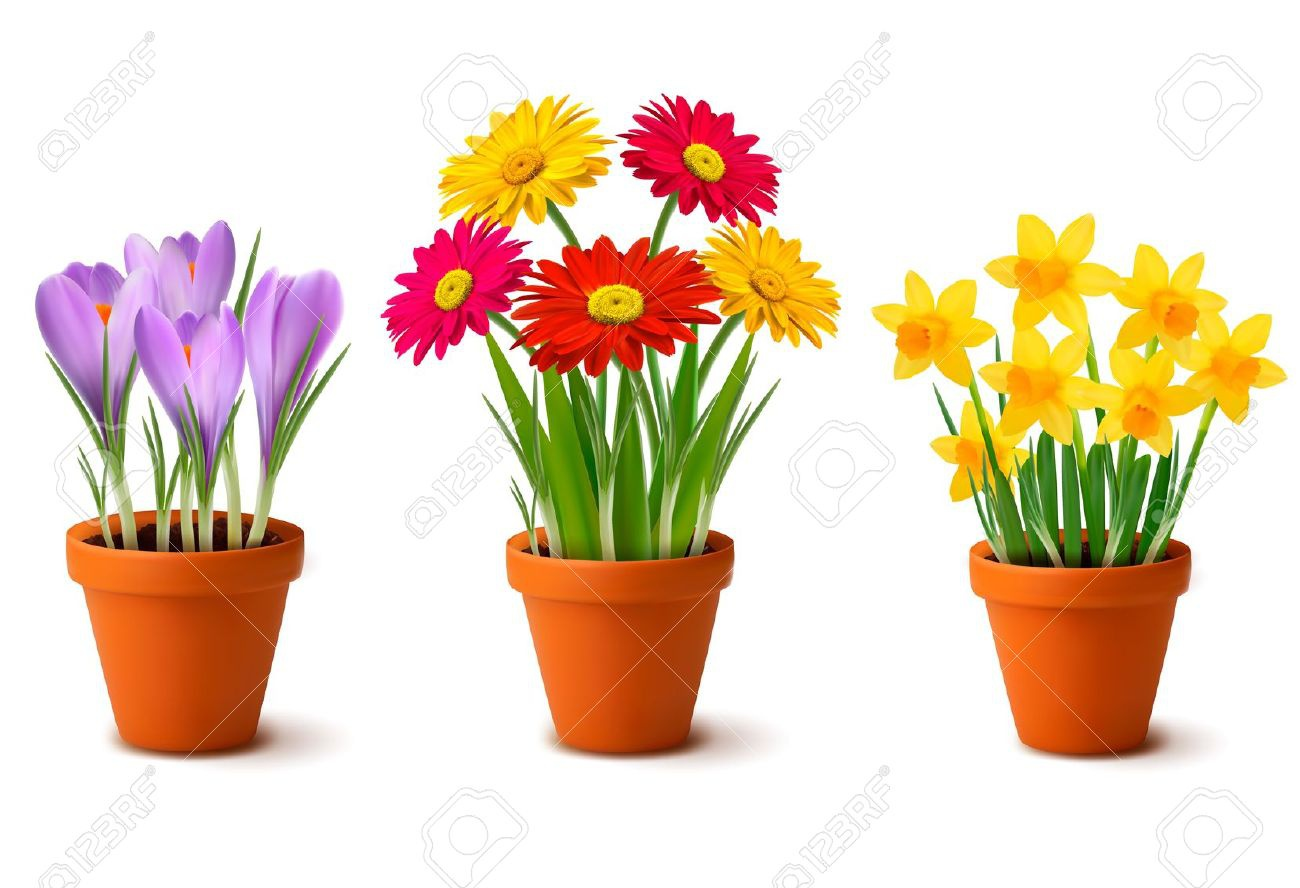flowerpot: (73, 514, 315, 753), (507, 524, 740, 747), (964, 532, 1192, 758)
